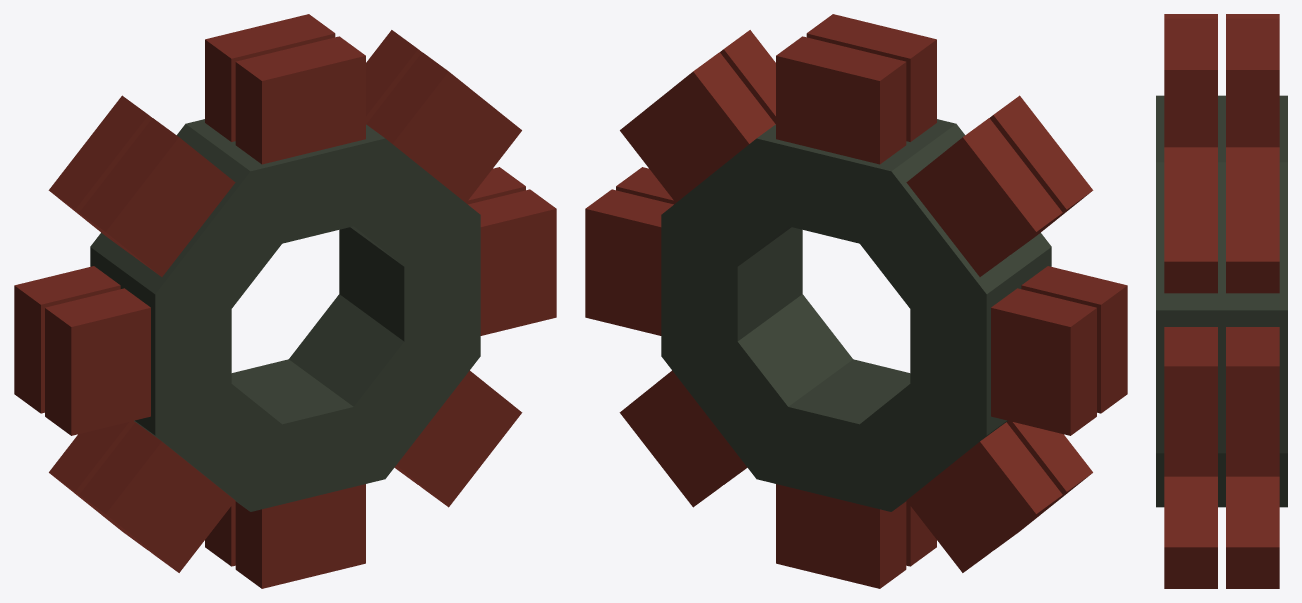
Rendered from tz16v_coil_ring.obj.
3 views of the same model, side by side, from view 1: azimuth 30°, elevation 25°; view 2: azimuth 150°, elevation 25°; view 3: azimuth 270°, elevation 25° (orthographic).
Visible parts, largest first — view 1: tz16v_coil_ring; view 2: tz16v_coil_ring; view 3: tz16v_coil_ring.
Part boxes in pixels (x1,y1,x2,y2): tz16v_coil_ring: (14,14,556,588); tz16v_coil_ring: (585,14,1127,588); tz16v_coil_ring: (1156,14,1287,588).
Size of the model in its own units: 2.8 by 2.8 by 0.65.
